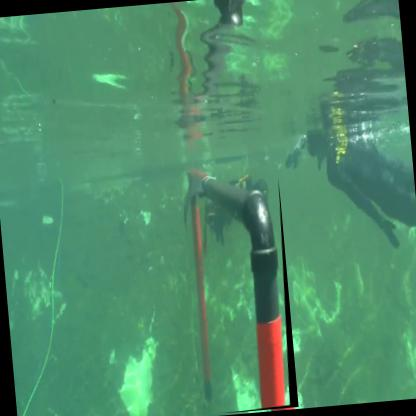gate: (181, 154, 302, 416)
